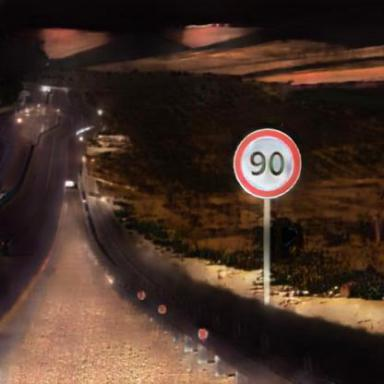Speed_limit_90: (234, 132, 302, 199)
